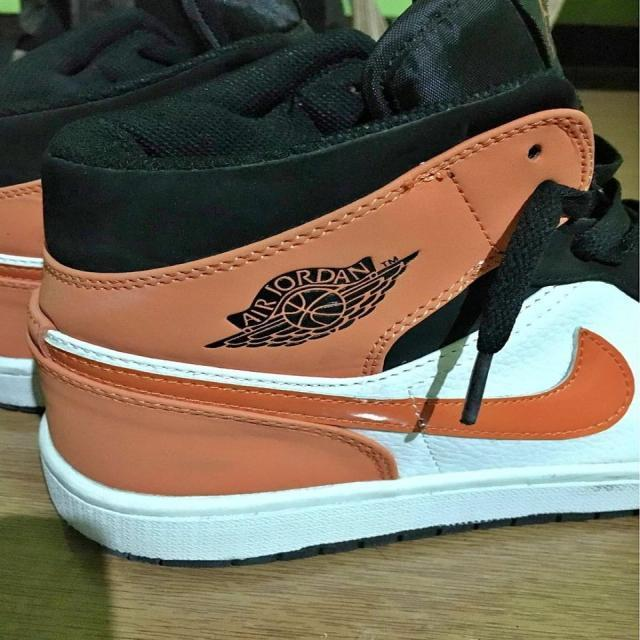nike fake jordan 1: (34, 0, 640, 565)
